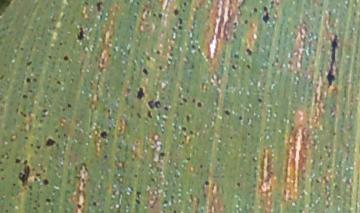tarspot: (326, 33, 339, 88), (17, 159, 32, 185), (260, 6, 271, 25), (75, 22, 85, 42), (136, 85, 146, 101), (94, 1, 104, 13), (45, 137, 57, 147), (146, 99, 155, 109), (222, 108, 231, 117), (99, 130, 108, 139), (141, 68, 151, 76), (232, 20, 240, 30), (245, 47, 253, 56), (19, 110, 28, 118), (62, 53, 69, 63), (157, 63, 164, 73), (135, 190, 143, 198), (195, 101, 203, 109), (180, 125, 188, 133), (162, 104, 170, 112), (157, 11, 165, 19), (155, 48, 163, 56), (189, 43, 197, 51), (184, 155, 192, 163), (75, 203, 83, 211), (42, 177, 49, 186), (45, 197, 52, 206), (245, 62, 252, 71), (66, 101, 73, 110), (177, 16, 184, 25), (155, 99, 161, 109), (257, 96, 264, 104), (233, 53, 241, 60), (55, 79, 62, 87), (25, 60, 33, 67), (102, 152, 109, 160), (132, 172, 139, 180), (41, 107, 49, 114), (32, 175, 40, 182), (185, 113, 190, 124), (173, 8, 179, 17), (146, 109, 152, 118), (128, 23, 134, 32), (323, 142, 329, 151), (252, 6, 259, 13), (236, 180, 243, 187), (203, 179, 210, 186), (159, 151, 166, 158), (13, 157, 20, 164), (162, 198, 169, 205), (35, 143, 42, 150), (155, 165, 162, 172), (287, 59, 294, 66), (134, 199, 142, 205), (229, 63, 237, 69), (188, 130, 196, 136), (182, 96, 188, 104), (136, 111, 142, 119), (177, 24, 183, 32), (20, 93, 28, 99), (46, 54, 54, 60), (54, 127, 60, 135), (314, 177, 320, 185), (243, 19, 250, 25), (91, 201, 98, 207), (32, 76, 38, 83), (25, 76, 31, 83), (145, 54, 151, 61), (182, 1, 188, 8), (202, 191, 208, 198), (62, 132, 68, 139), (179, 139, 186, 145), (38, 117, 45, 123), (61, 107, 67, 114), (170, 208, 178, 213), (34, 172, 42, 177), (237, 115, 243, 121), (198, 163, 204, 169), (228, 135, 234, 141), (150, 177, 156, 183), (107, 52, 113, 58), (246, 131, 251, 138), (57, 41, 64, 46), (152, 12, 157, 19), (29, 142, 35, 147), (331, 131, 337, 136), (19, 46, 24, 52), (275, 56, 279, 63), (191, 98, 196, 103), (171, 194, 176, 199), (179, 101, 183, 107), (24, 135, 28, 140)
